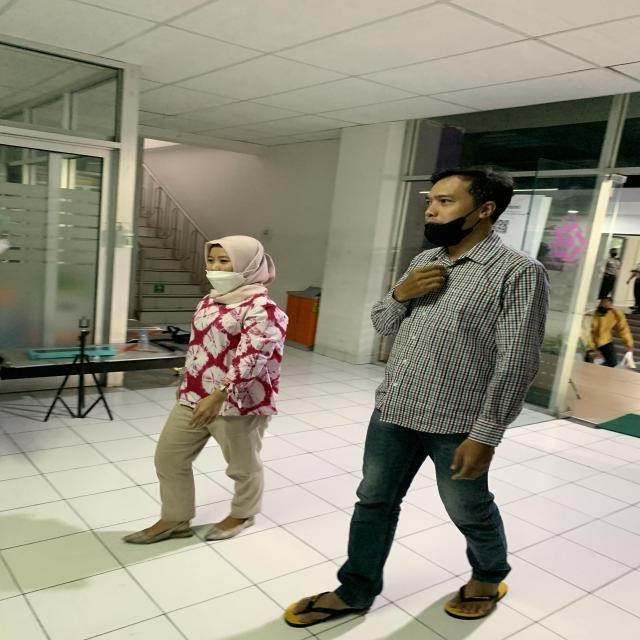hairnet: (421, 202, 494, 241), (204, 262, 243, 289)
